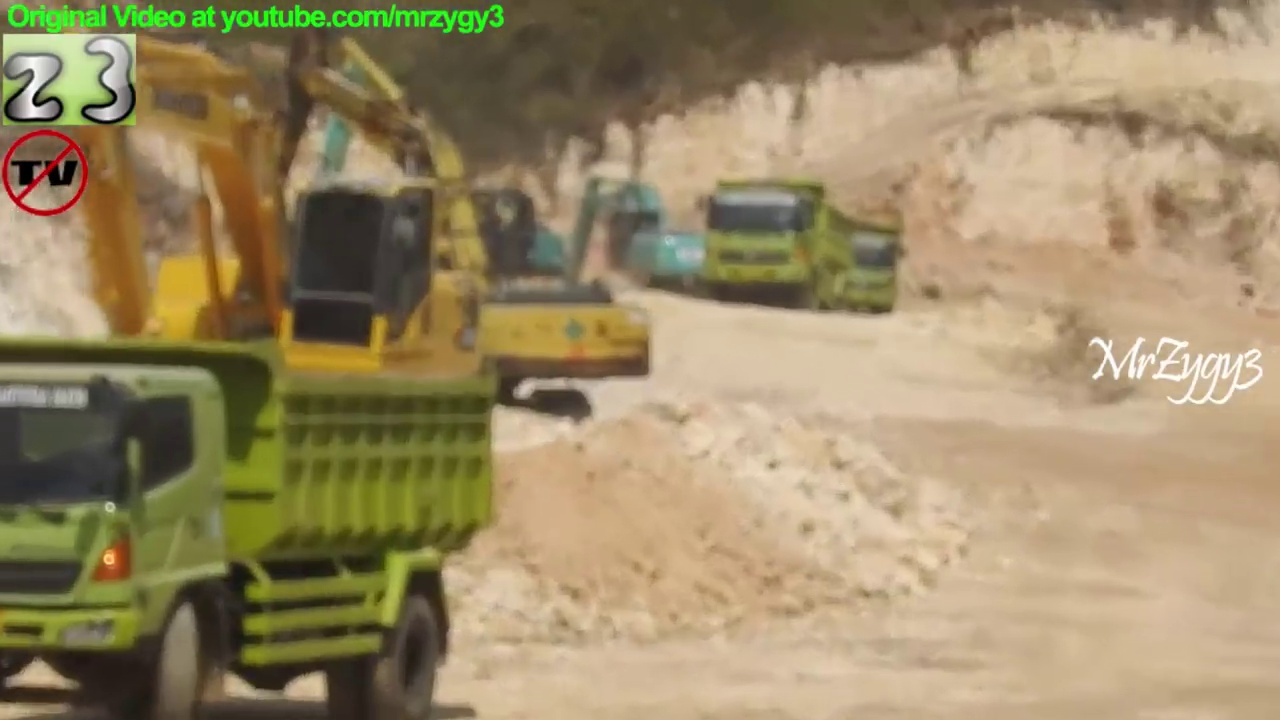excavator: (27, 3, 505, 471), (217, 2, 657, 443), (279, 51, 564, 320), (561, 171, 717, 309)
truck: (1, 330, 508, 720), (699, 175, 858, 323), (799, 213, 912, 319)
